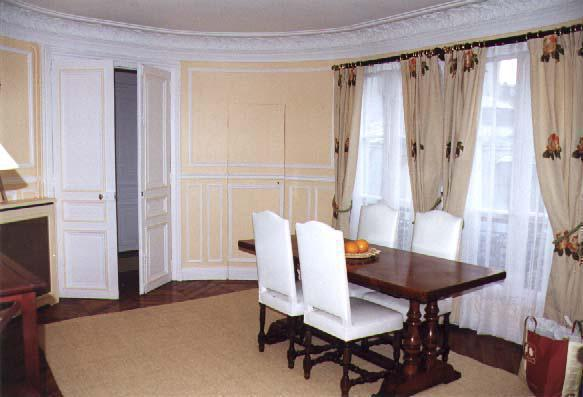Puerta: (53, 63, 116, 299), (138, 72, 172, 295)
Ventana: (451, 64, 550, 289), (344, 67, 413, 206)
